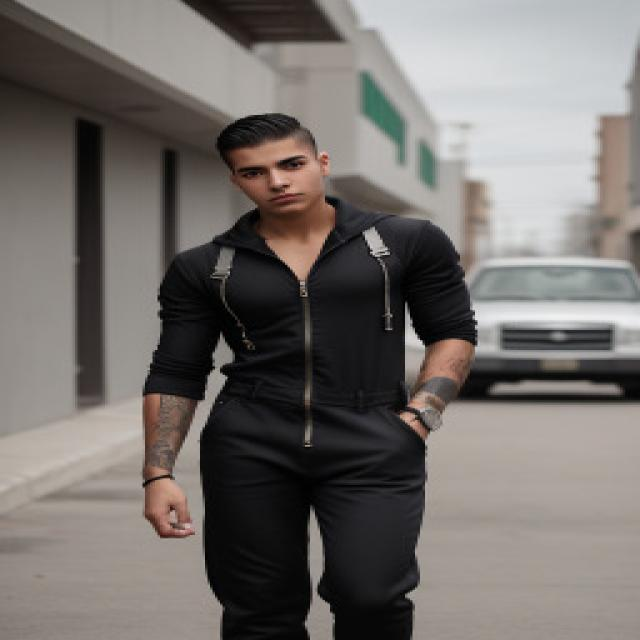Ai human 2: (123, 105, 489, 640)
